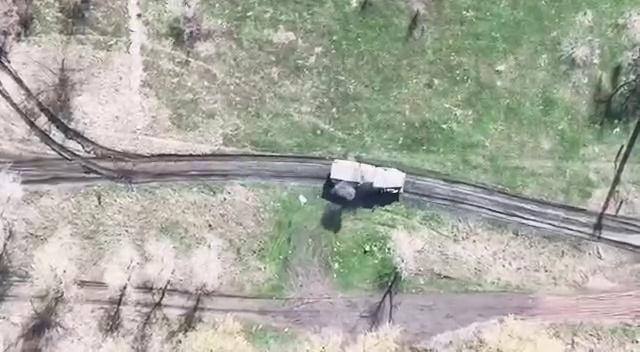vehicle: (328, 158, 406, 198)
